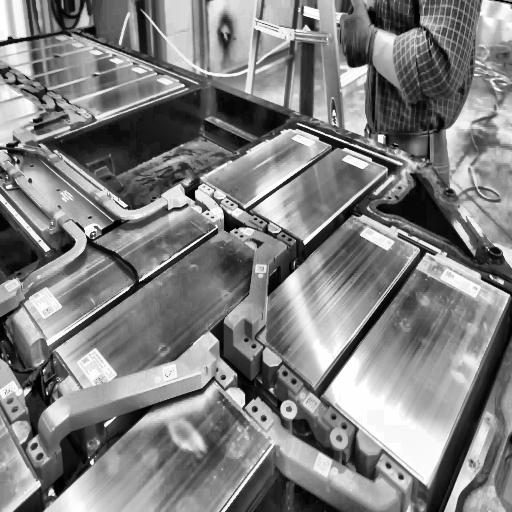battery_module: (322, 252, 512, 487), (54, 229, 271, 422), (243, 214, 421, 386), (16, 190, 216, 343), (250, 146, 388, 245), (199, 125, 331, 207)
busbar: (0, 50, 424, 512)
